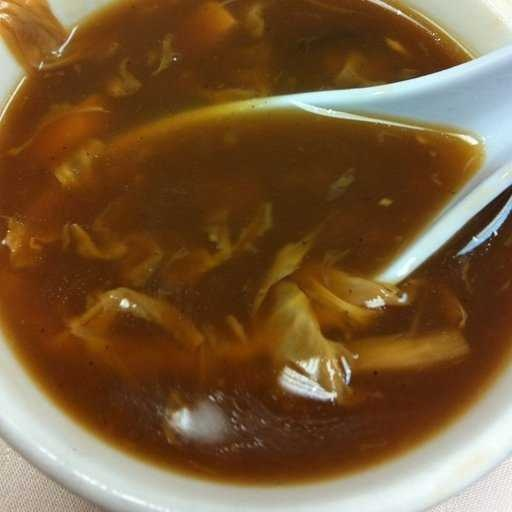soup: (5, 16, 507, 495)
